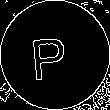P_N: (34, 29, 76, 81)
